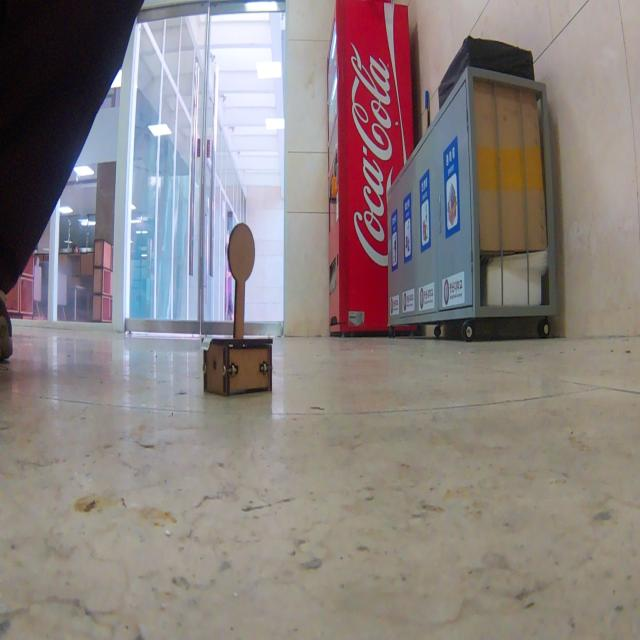target: (201, 222, 274, 398)
